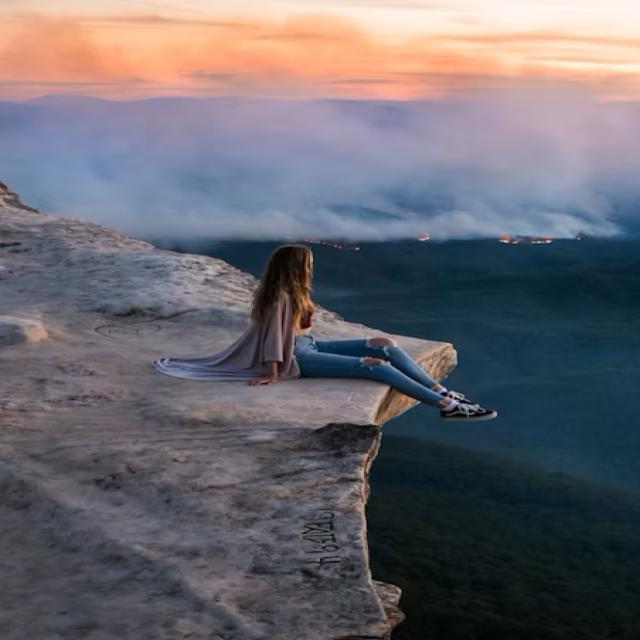Edited images: (176, 221, 509, 427)
